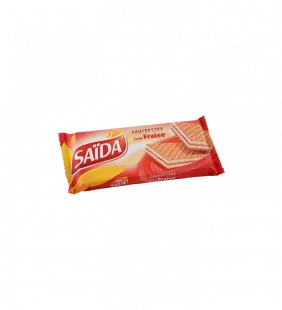SAIDA: (51, 107, 236, 205)
